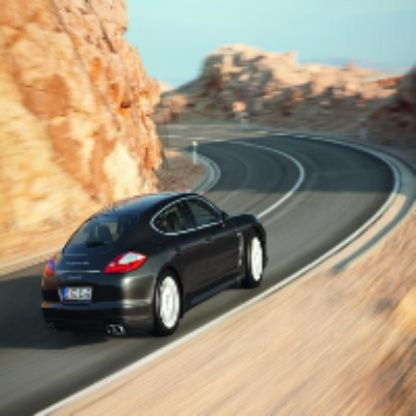Vehicle: (40, 191, 272, 340)
